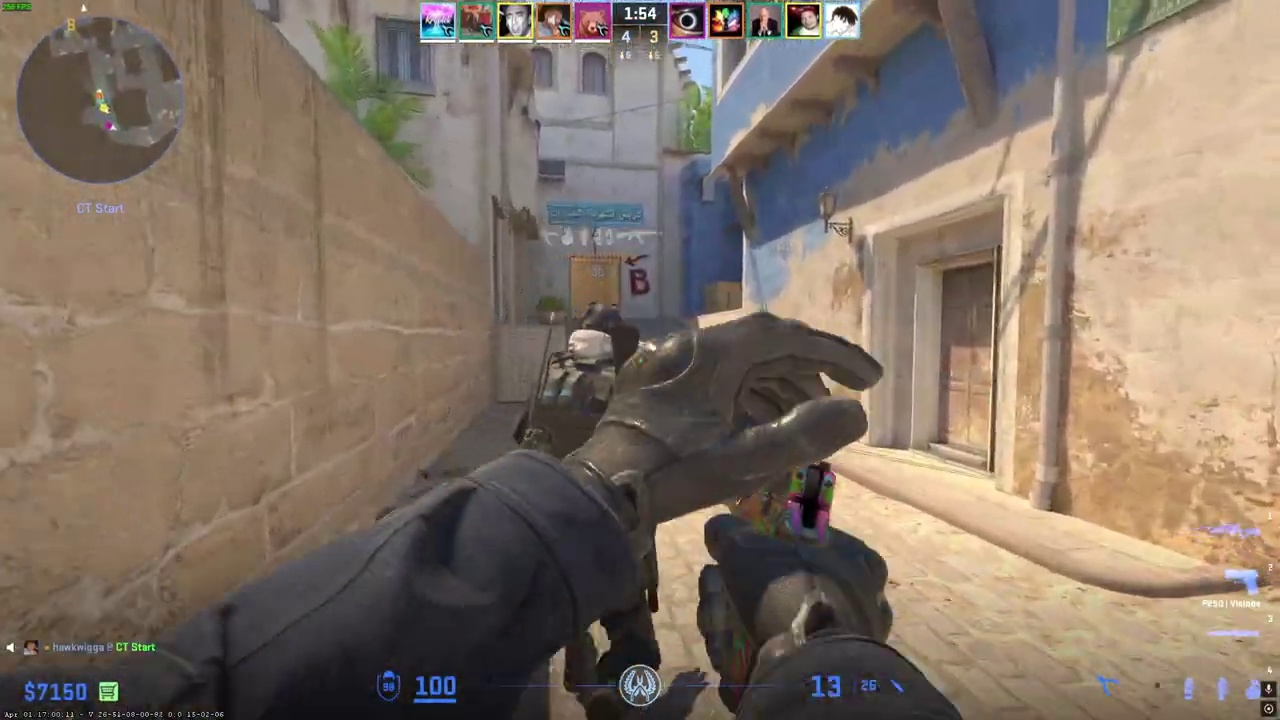CT: (521, 300, 661, 461)
